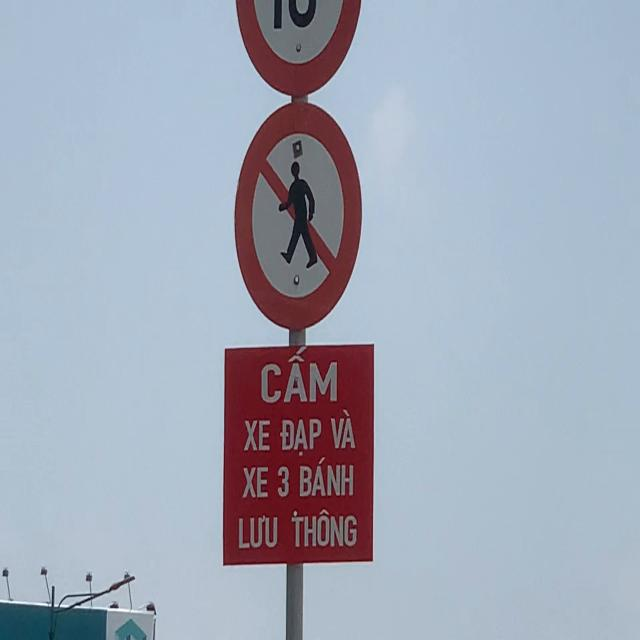Cam con lai: (234, 101, 364, 332)
